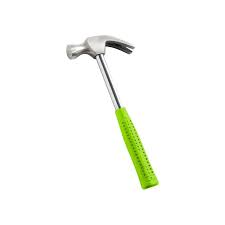martillu: (61, 31, 165, 191)
